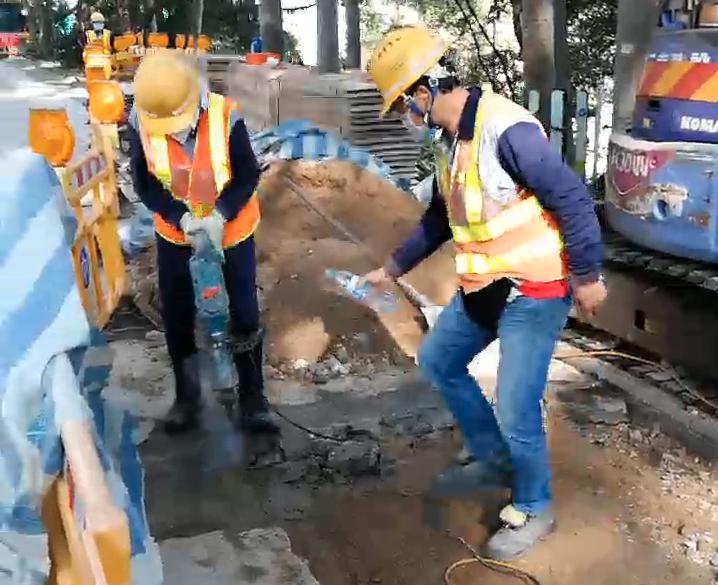Hard Hat: (366, 28, 464, 127), (133, 51, 209, 146)
Person: (368, 30, 602, 558), (131, 53, 277, 435)
Vest: (431, 88, 602, 286), (126, 93, 269, 253)
